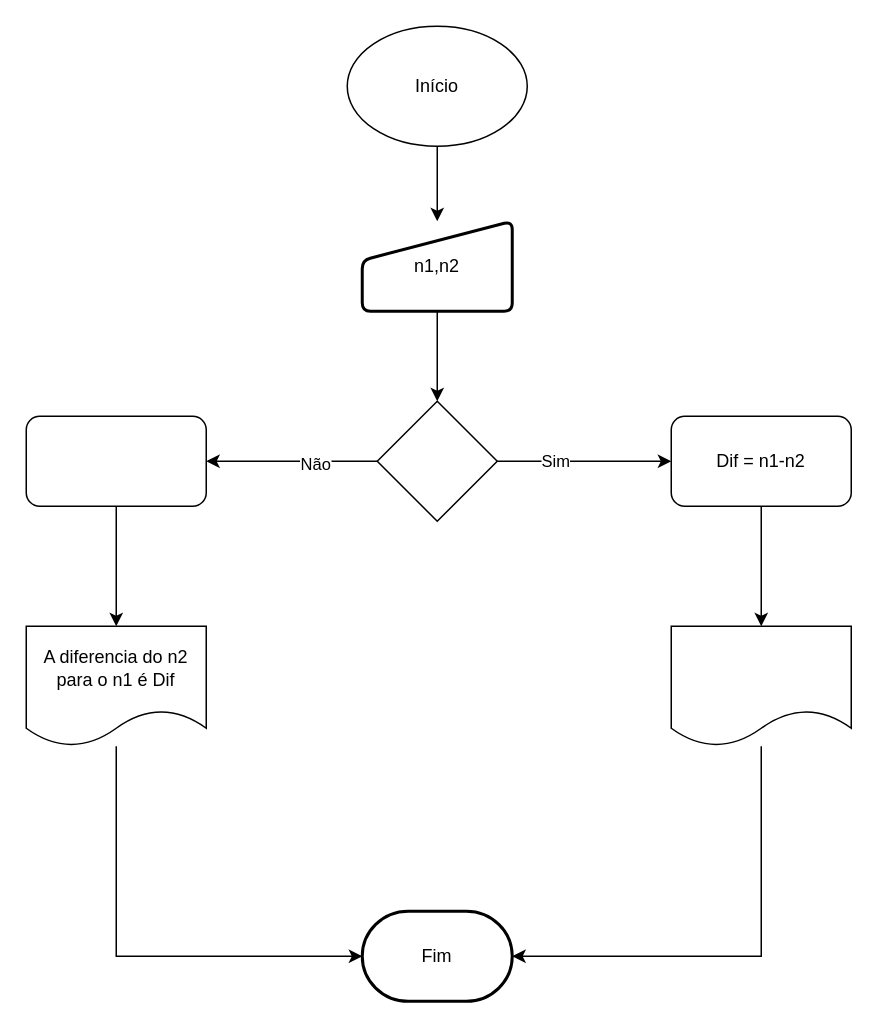
Image size: 878x1029. Some labels were removed from this diagram. Here are the shapes that lost their labels. From the top down, the centre of each, then its label:
the point at 115,460: Dif = n2-n1
the point at 436,460: n1 > n2
the point at 760,685: A diferencia do n1 para o n2 é Dif
